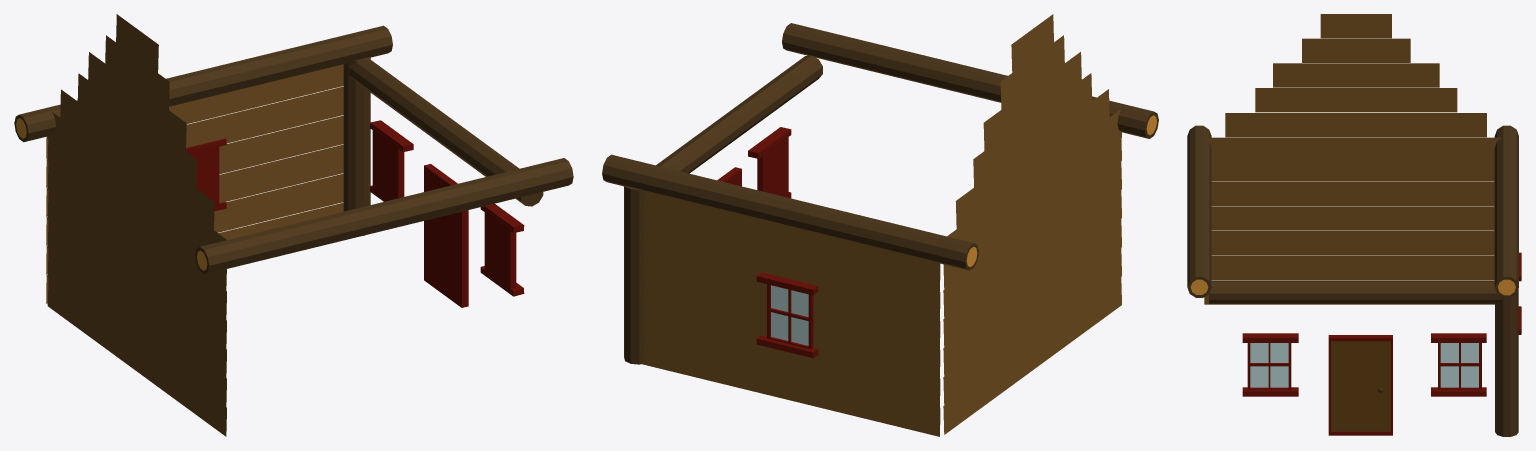
Rendered from Cabaña.glb.
The picture shows the model from 3 angles, left to right: view 1: azimuth 30°, elevation 25°; view 2: azimuth 150°, elevation 25°; view 3: azimuth 270°, elevation 25°; orthographic projection. The views are drawn at different scales.
Visible parts, largest first — view 1: pared.001, pared, pared.002, Cylinder.005, Cylinder.004, ventana.001, Cylinder.006, Cube, Cylinder.003, ventana; view 2: pared, pared.001, pared.002, Cylinder.004, Cylinder.005, Cylinder.006, ventana, Cylinder.003, ventana.001; view 3: pared.001, pared.002, Cylinder.006, Cube, ventana.001, Cylinder.005, Cylinder.004, Cylinder.003.
Part boxes in pixels (x1,y1,x2,y2): pared.001: (47, 139, 226, 436); pared: (46, 64, 343, 303); pared.002: (47, 14, 226, 247); Cylinder.005: (195, 158, 573, 274); Cylinder.004: (14, 25, 392, 142); ventana.001: (370, 120, 524, 296); Cylinder.006: (348, 58, 543, 206); Cube: (424, 164, 468, 307); Cylinder.003: (343, 57, 370, 235); ventana: (186, 138, 226, 211); pared: (642, 191, 940, 436); pared.001: (943, 138, 1121, 434); pared.002: (944, 14, 1121, 267); Cylinder.004: (602, 154, 978, 270); Cylinder.005: (782, 23, 1158, 138); Cylinder.006: (656, 55, 822, 173); ventana: (756, 272, 818, 358); Cylinder.003: (624, 186, 644, 364); ventana.001: (748, 127, 791, 198); pared.001: (1204, 156, 1494, 304); pared.002: (1204, 14, 1501, 156); Cylinder.006: (1209, 281, 1502, 303); Cube: (1328, 335, 1392, 435); ventana.001: (1242, 333, 1486, 396); Cylinder.005: (1187, 125, 1211, 297); Cylinder.004: (1494, 125, 1518, 297); Cylinder.003: (1495, 289, 1518, 436).
Size of the model in its own units: 6.64 by 5.96 by 6.2.
